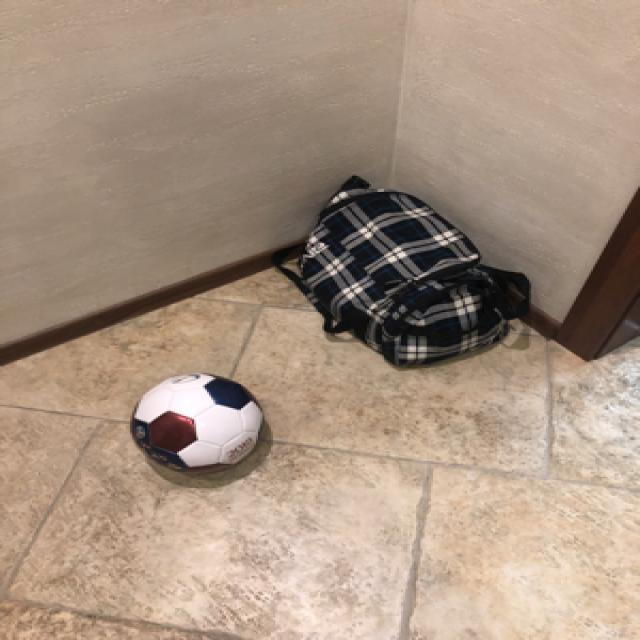soccer_ball: (121, 368, 266, 478)
